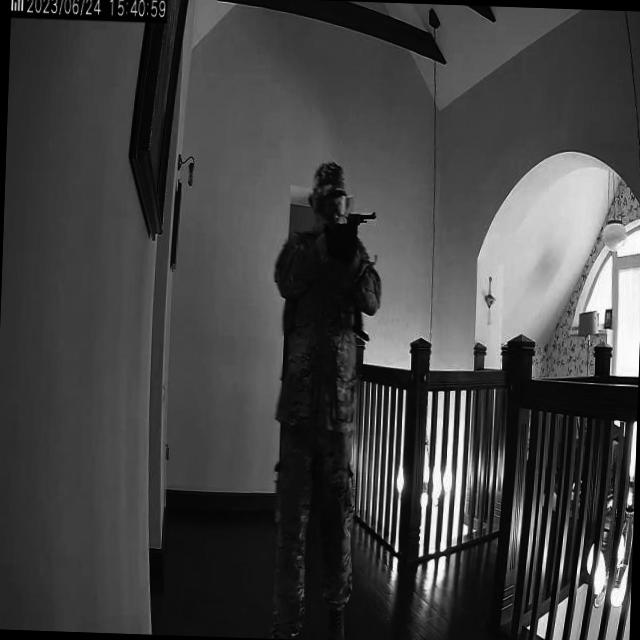gun: (344, 208, 378, 241)
person with a gun: (260, 159, 376, 639)
